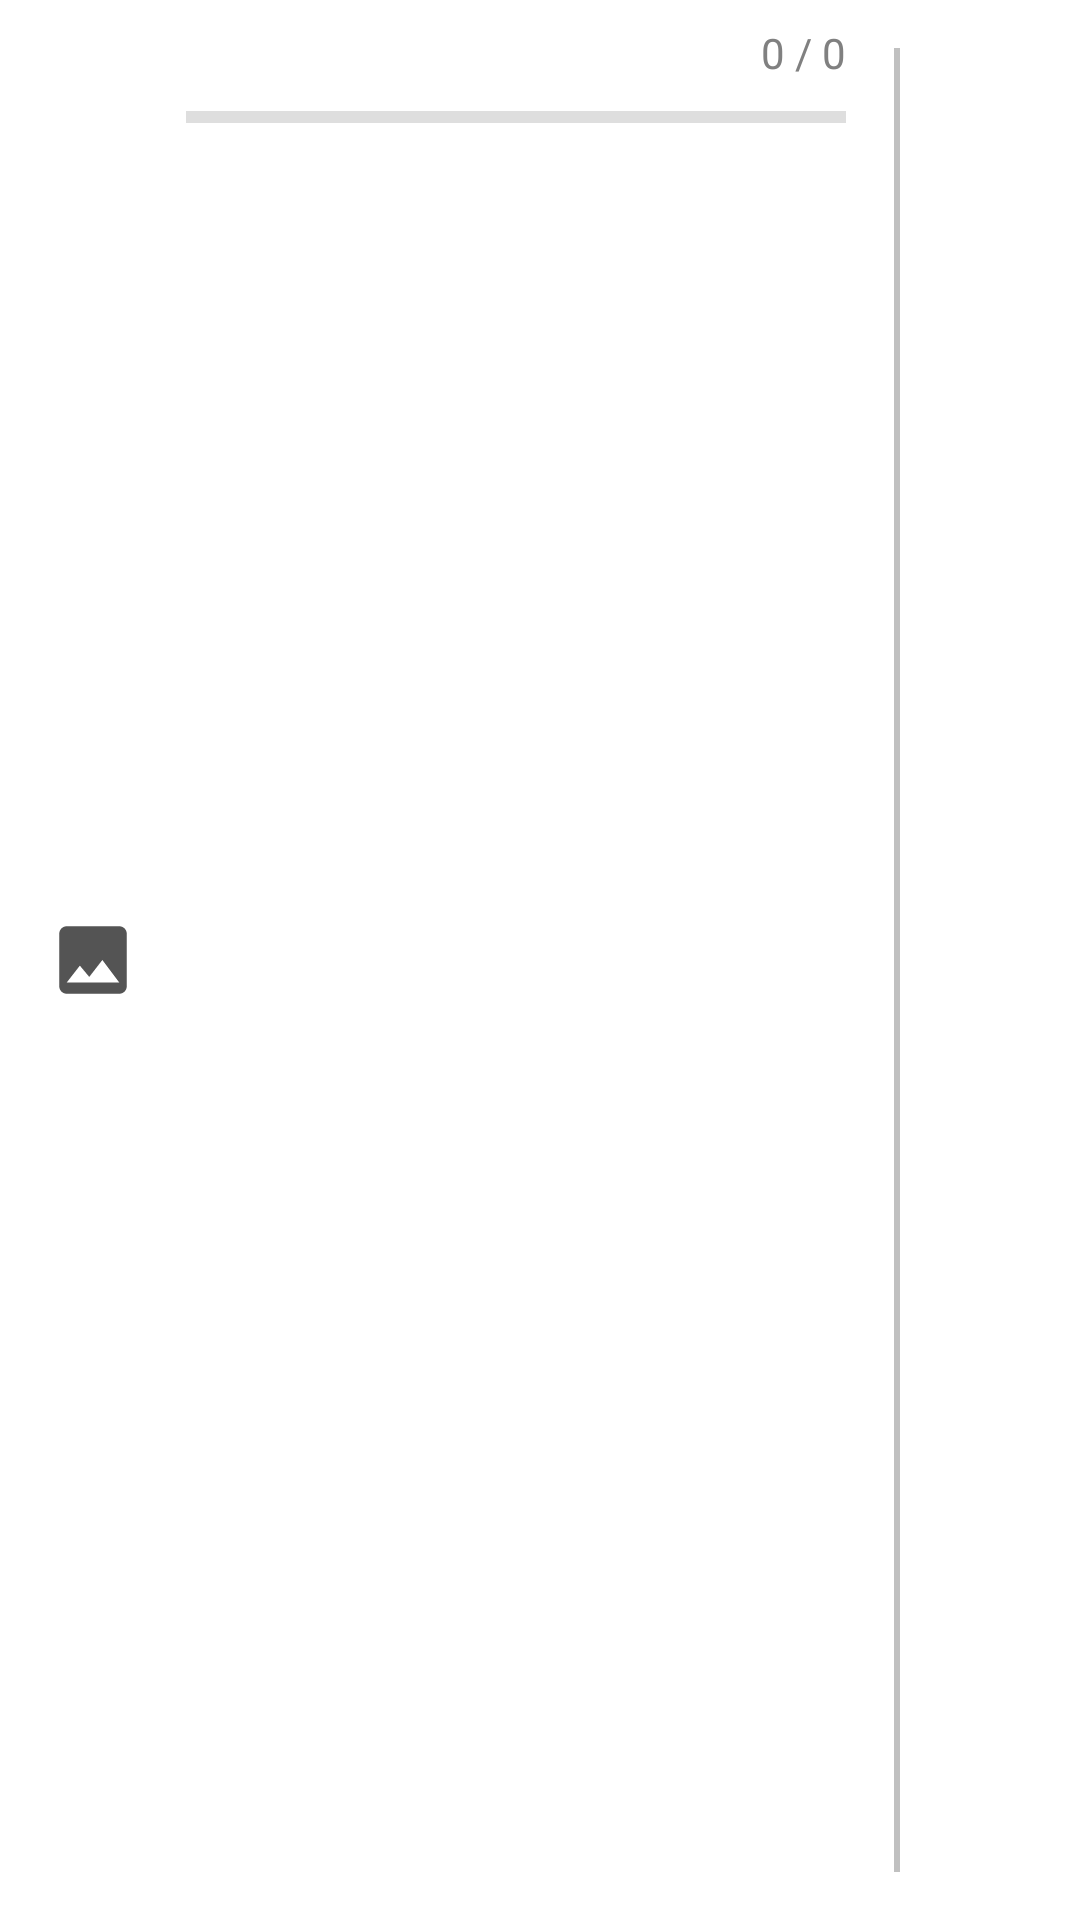

Icon click points for this 1080*1920 phone screenshot, format (x=x, y=y):
photo: (x=93, y=960)
